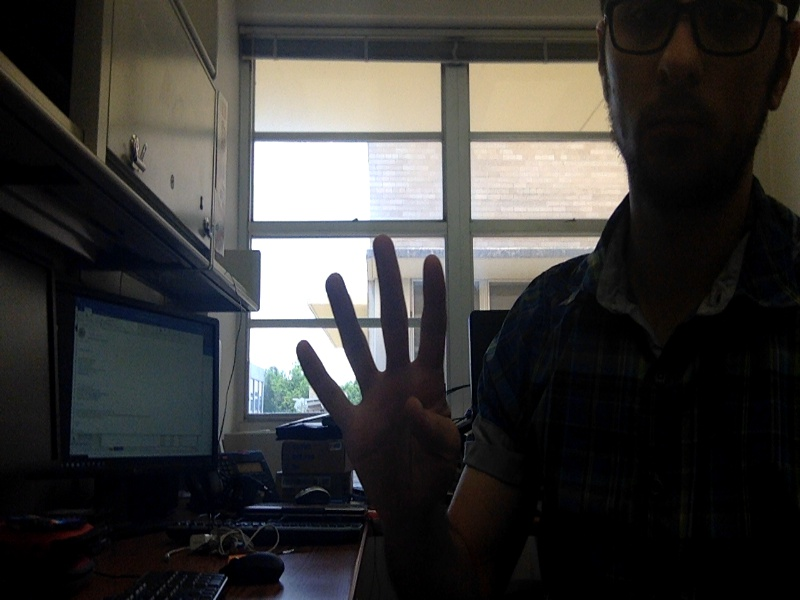4-hand: (292, 235, 465, 524)
